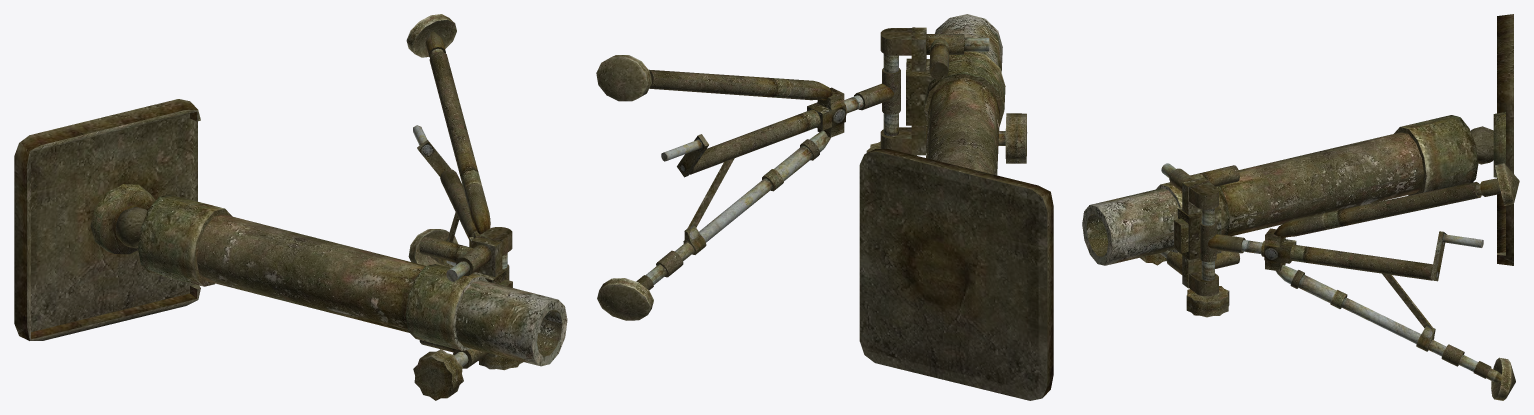
The model's file is prop_mortar_static.glb.
3 renders of one model, left to right at view 1: azimuth 30°, elevation 25°; view 2: azimuth 150°, elevation 25°; view 3: azimuth 270°, elevation 25°, orthographic. The views are drawn at different scales.
Bounding box in the file's own units: 36.48 × 20.36 × 34.8.
Materials: 1 (1 with a texture image).
